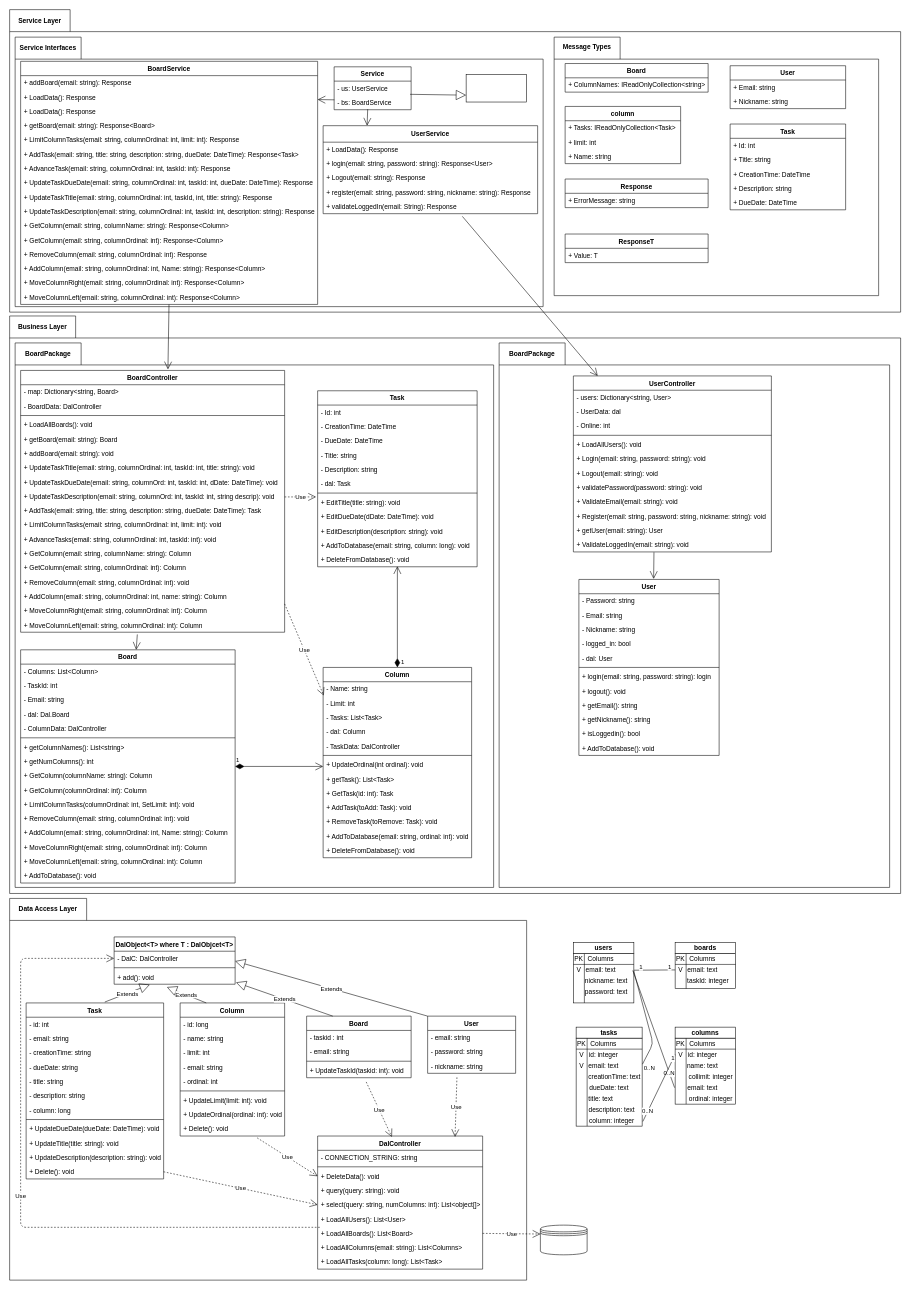
This 910x1290 diagram has some shape labels left out. Here are the shapes that lost their labels. From the top down, the centre of each, then its label:
the point at 496,88: «interface» Iservice
the point at 563,1240: Persistence
